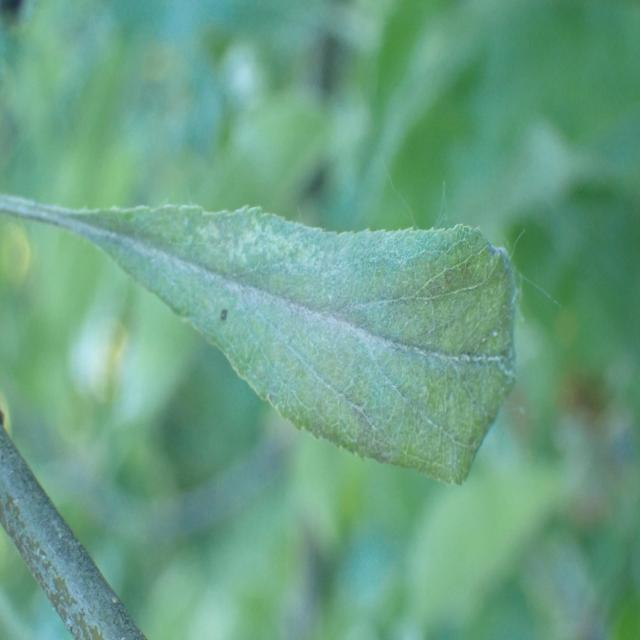Powdery_mildew: (101, 214, 526, 481)
